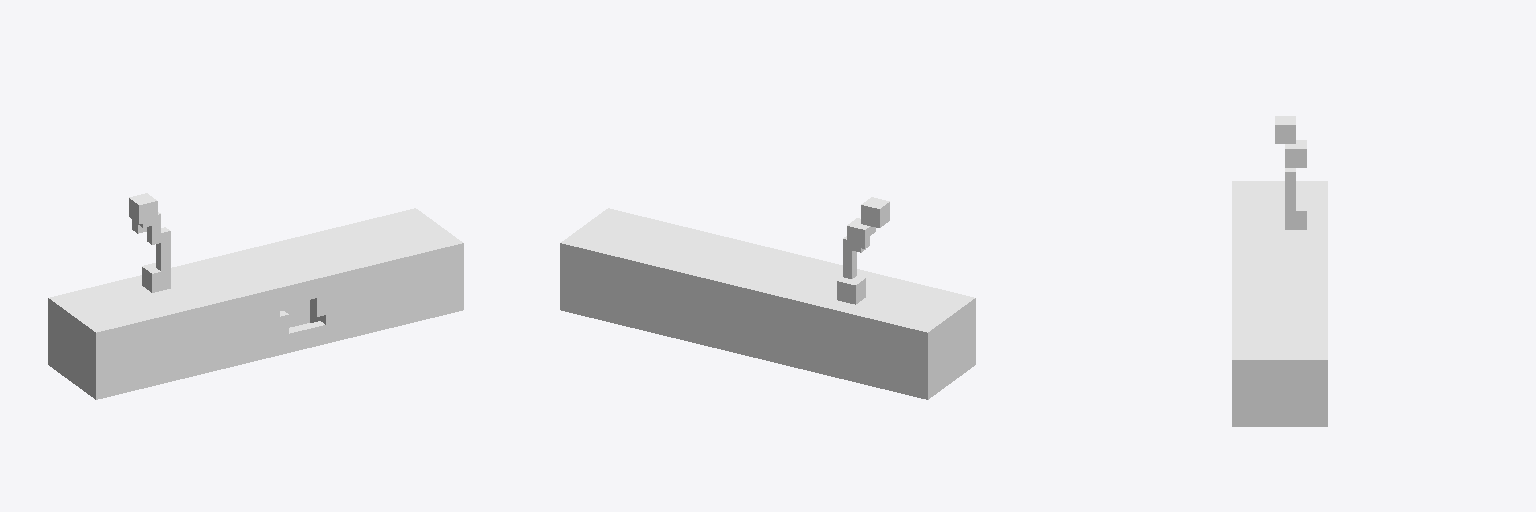
The model's file is brevno_1.obj.
The picture shows the model from 3 angles: view 1: azimuth 30°, elevation 25°; view 2: azimuth 150°, elevation 25°; view 3: azimuth 270°, elevation 25°; orthographic projection.
Parts seen in each view (by area): view 1: object 1; view 2: object 1; view 3: object 1.
Part boxes in pixels (left/top/right/bottom): object 1: left=48, top=193, right=463, bottom=399; object 1: left=560, top=197, right=975, bottom=399; object 1: left=1232, top=116, right=1327, bottom=426.
Bounding box in the file's own units: 4 × 1.7 × 0.9.